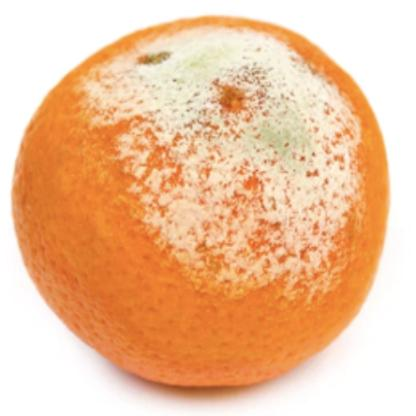rotten: (15, 18, 391, 387)
